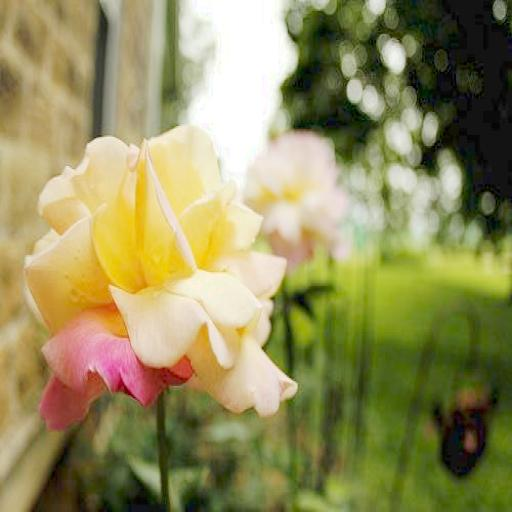rose: (24, 138, 290, 418)
